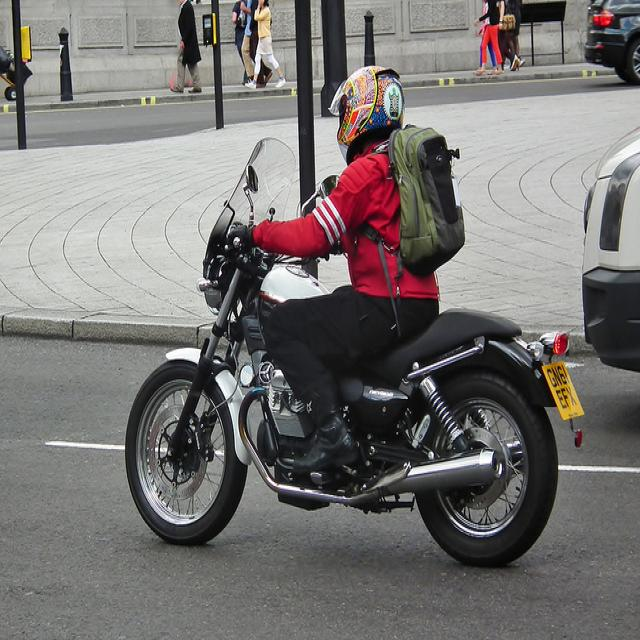motor: (117, 139, 588, 563)
